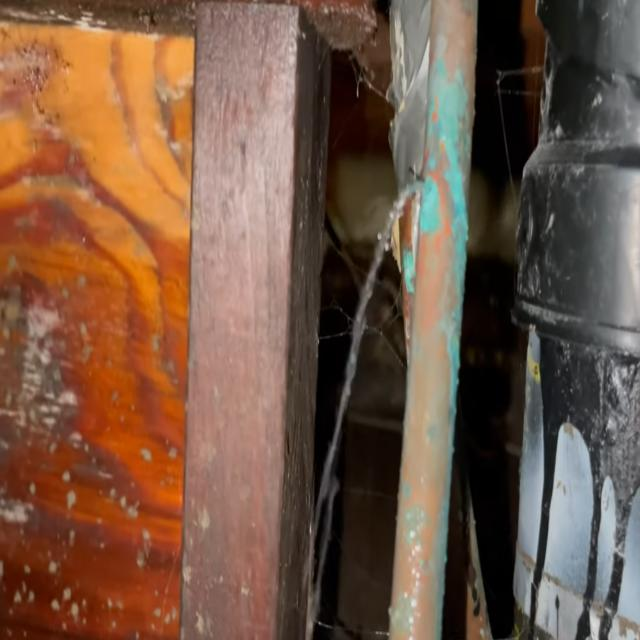leak: (311, 180, 421, 622)
